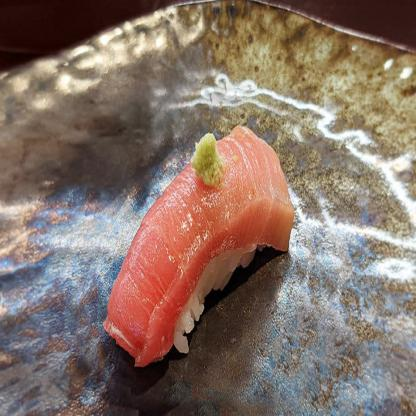toro: (100, 114, 298, 385)
